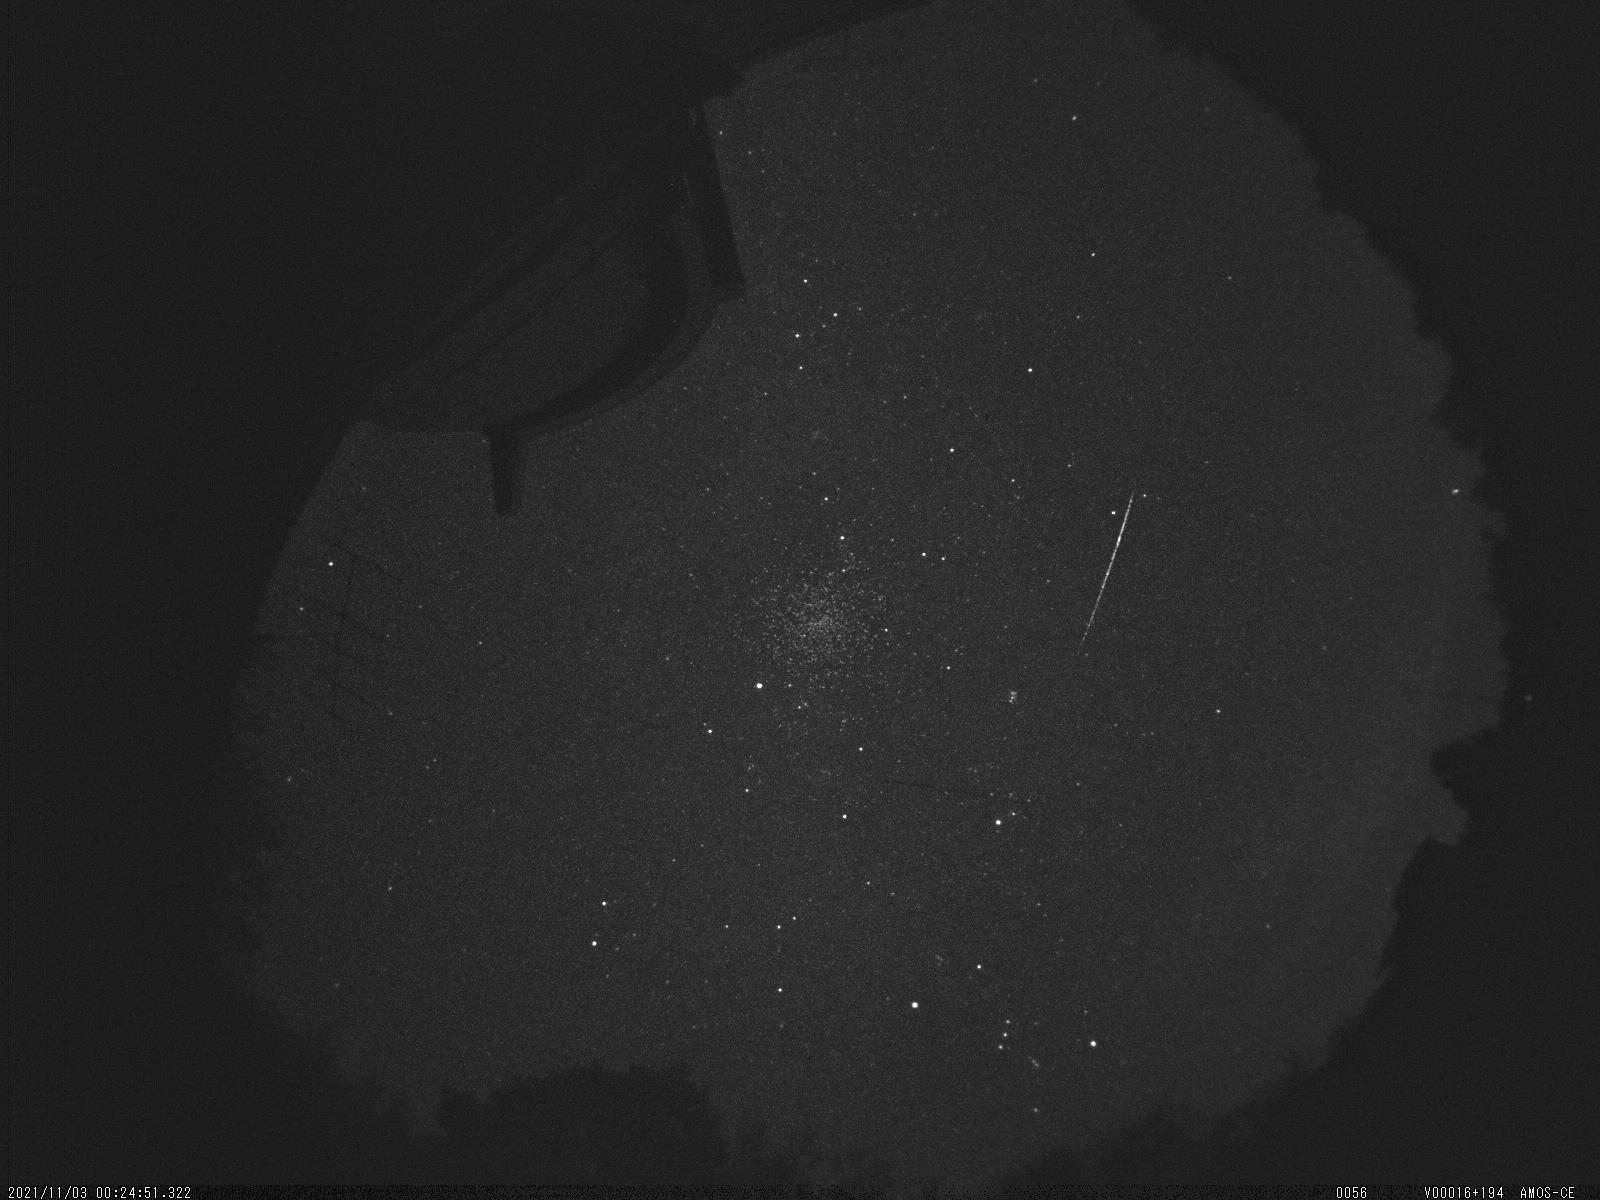Meteor: (1070, 479, 1144, 655)
